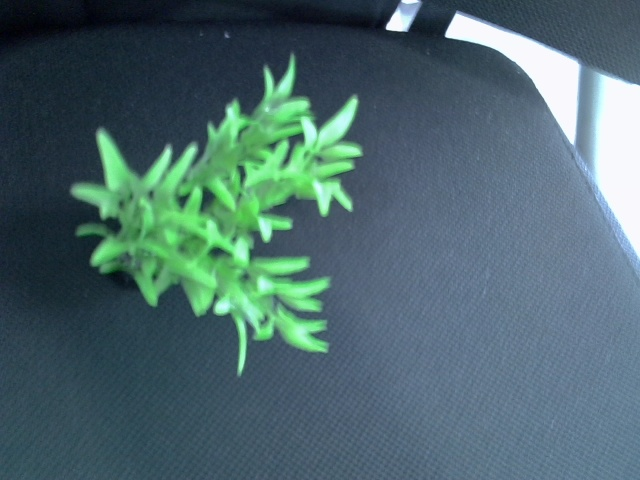튤립새싹: (73, 70, 361, 368)
